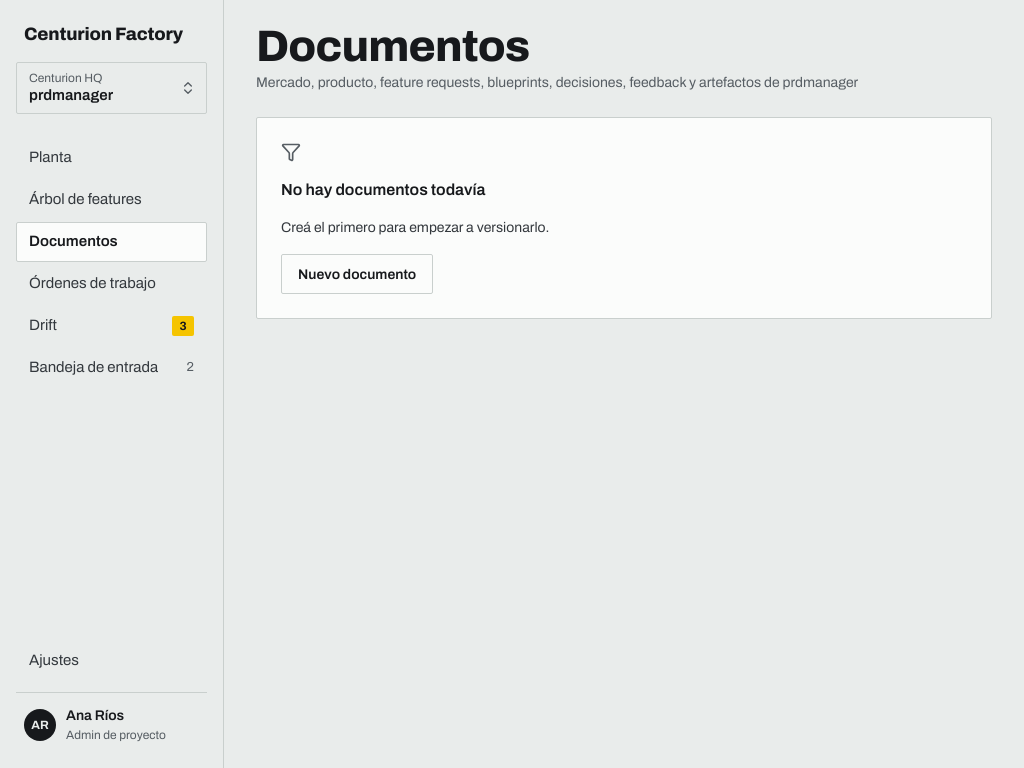
Scenario: DocumentosPage demo states › shows an empty state with a next action when vacio
Expected: the text "No hay documentos todavía" is shown, [281,178,485,202]
What coordinates should you click on to do the following:
click the button "Nuevo documento"
I would click on:
 (357, 274)
Its box is [281,254,433,294].
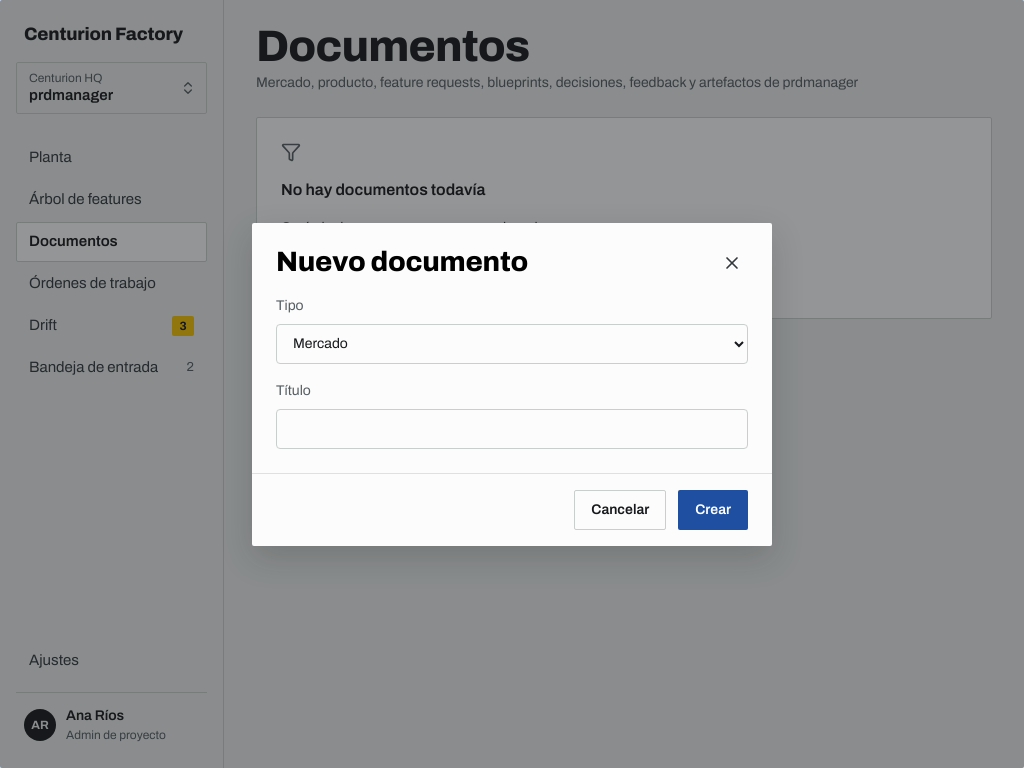
Now the dialog is shown
